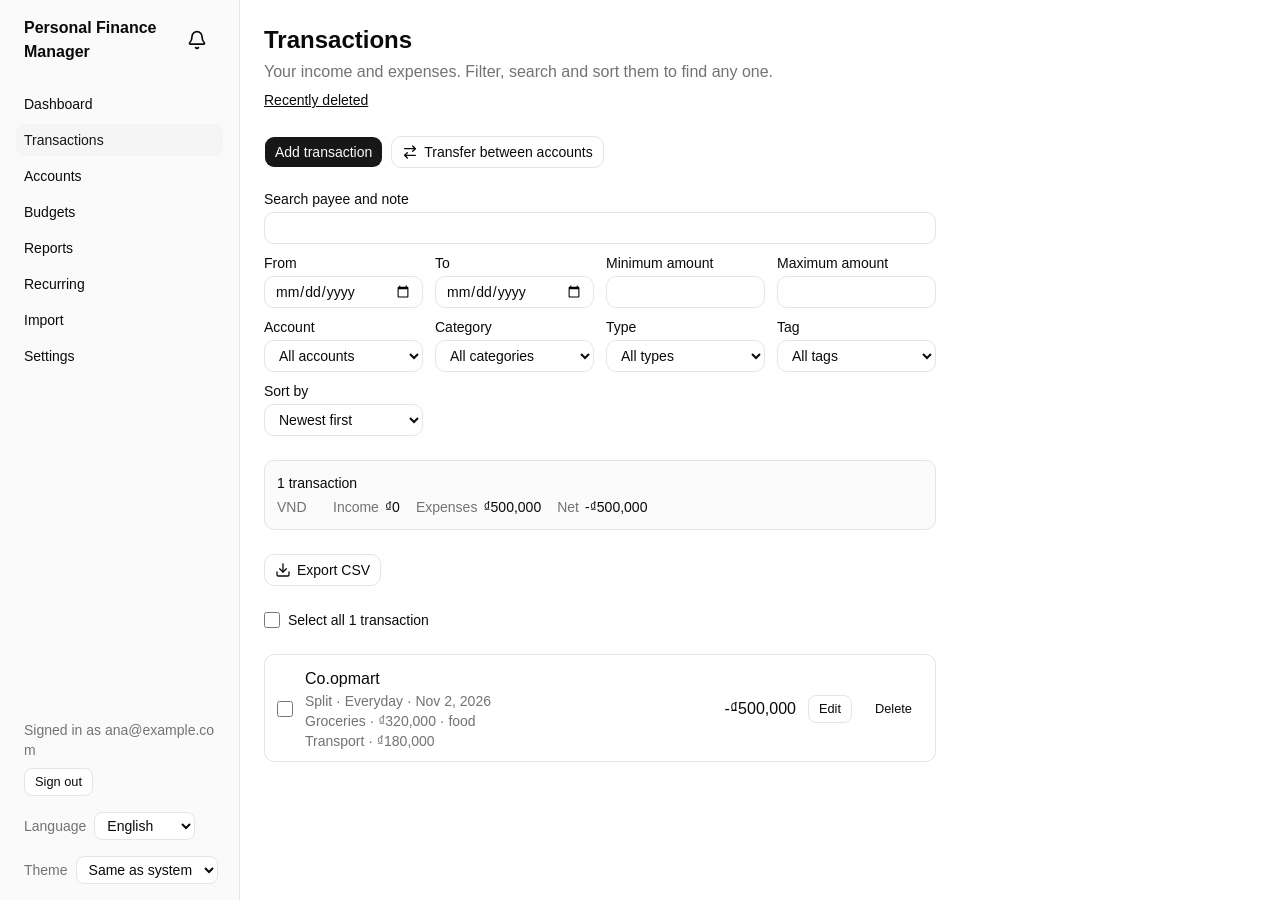
Test: split transactions › open for editing with their lines, which can be changed
The image size is (1280, 900).
Click the button with aria-label "Edit Co.opmart" at (830,709), box [808,695,852,723]
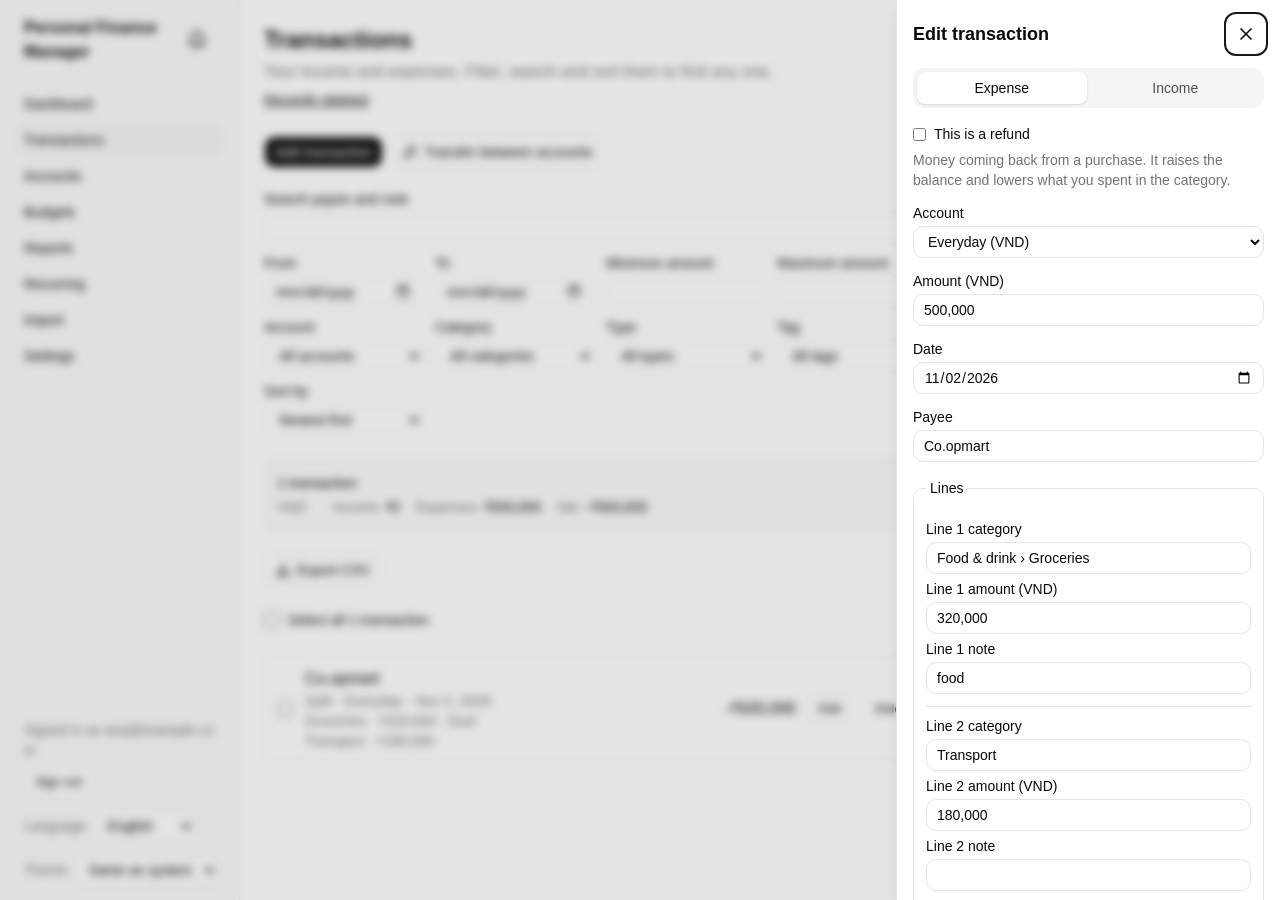
Check: the dropdown labelled "Line 1 category" holds "Food & drink › Groceries", box [926,542,1251,574]
Check: the field labelled "Line 1 amount (VND)" holds "320,000"
Check: the field labelled "Line 1 note" holds "food", box [926,662,1251,694]
Replace the text in the field labelled "Line 1 amount (VND)" with "300,000" at (1088,618), box [926,602,1251,634]
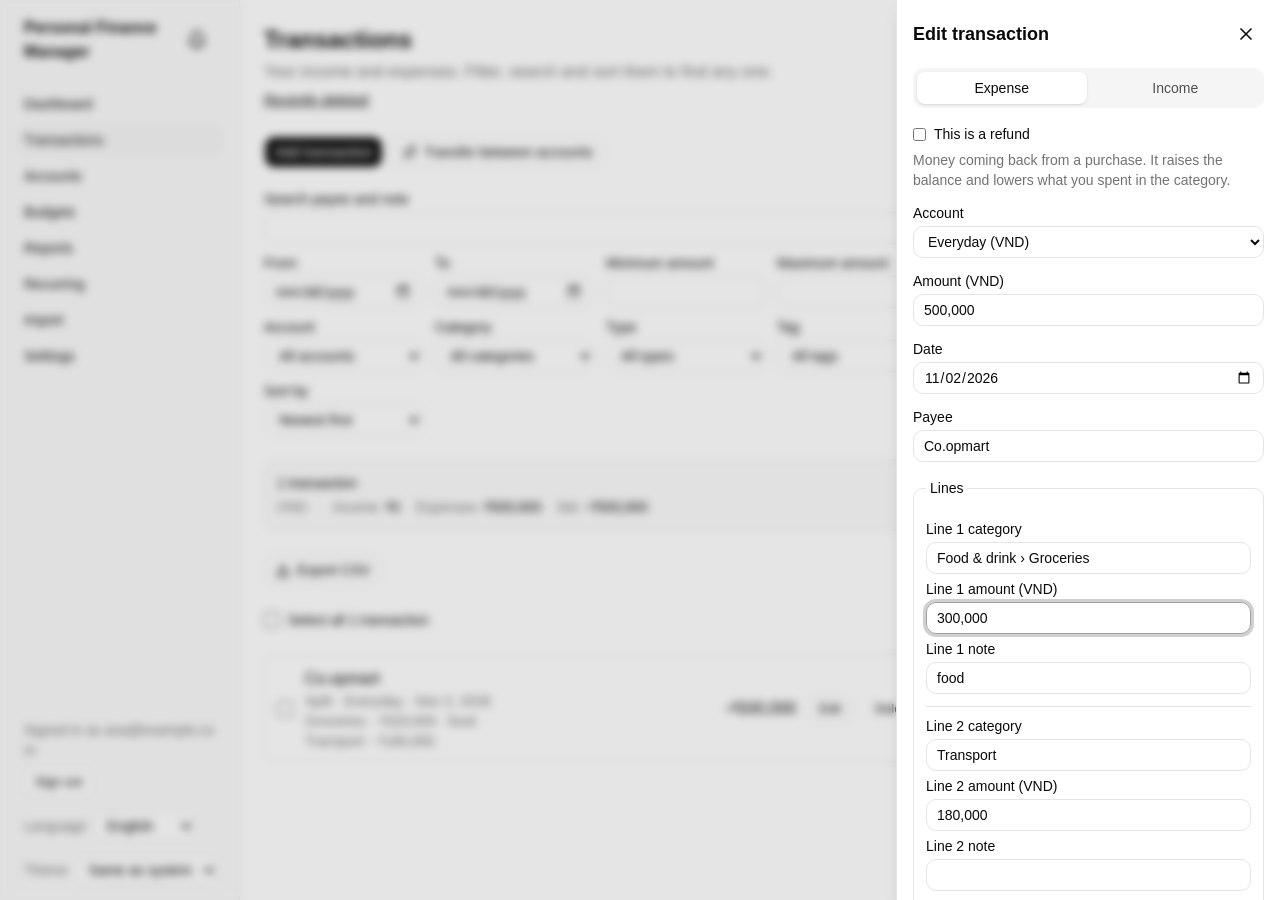
Replace the text in the field labelled "Line 2 amount (VND)" with "200,000" at (1088,815), box [926,799,1251,831]
(page scrolled)
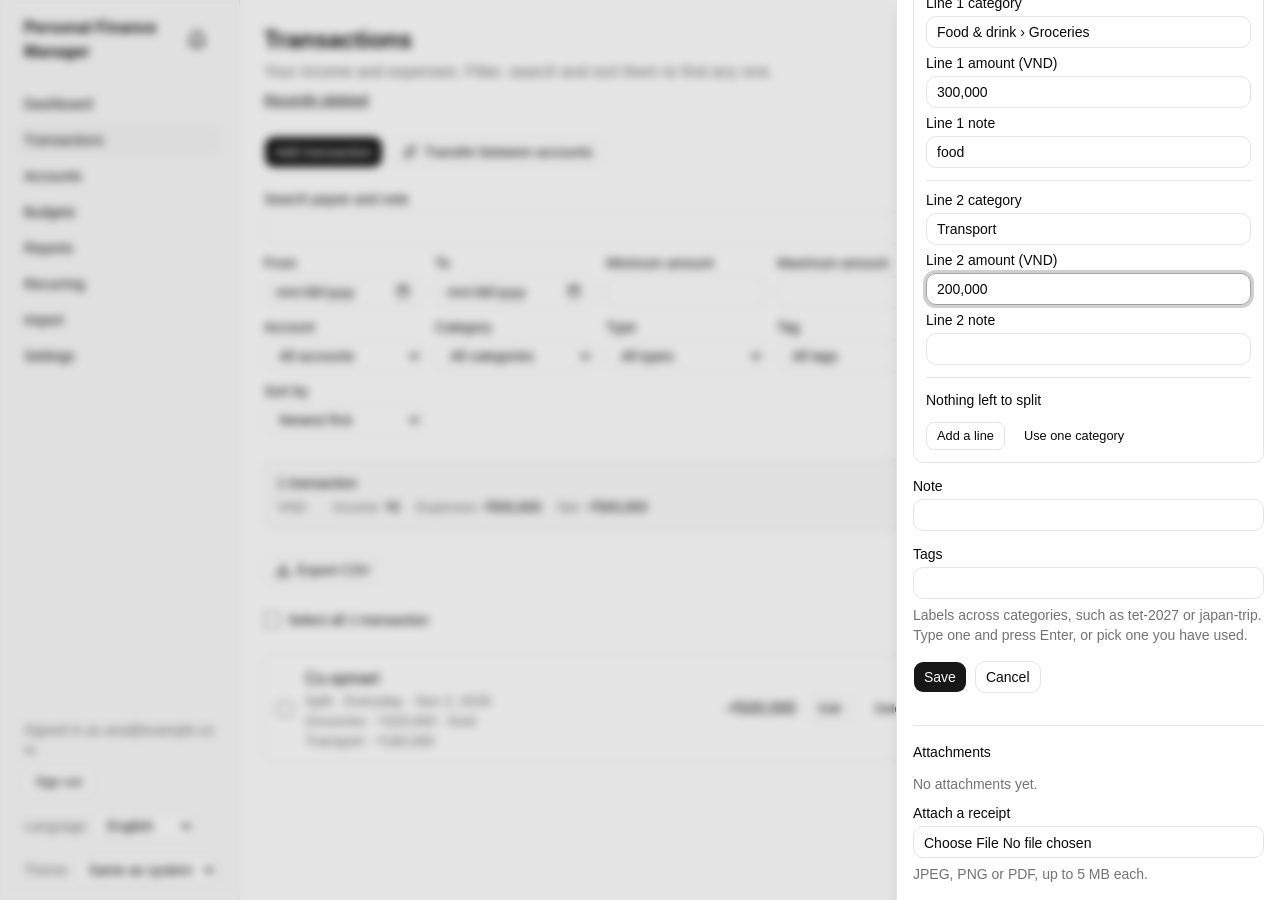
Click the button "Save" at (940,677), box [913,661,967,693]
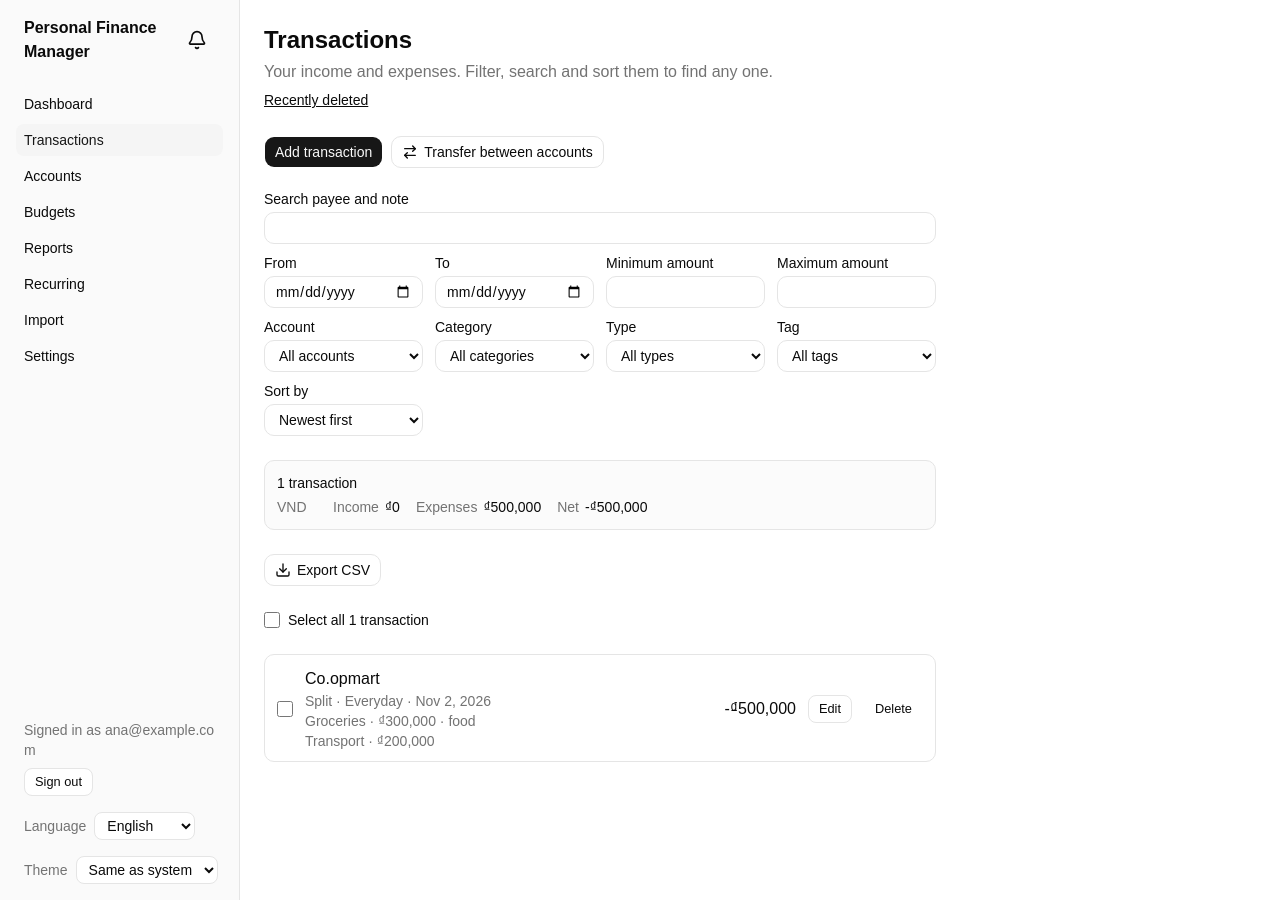
Check: the dialog is gone
